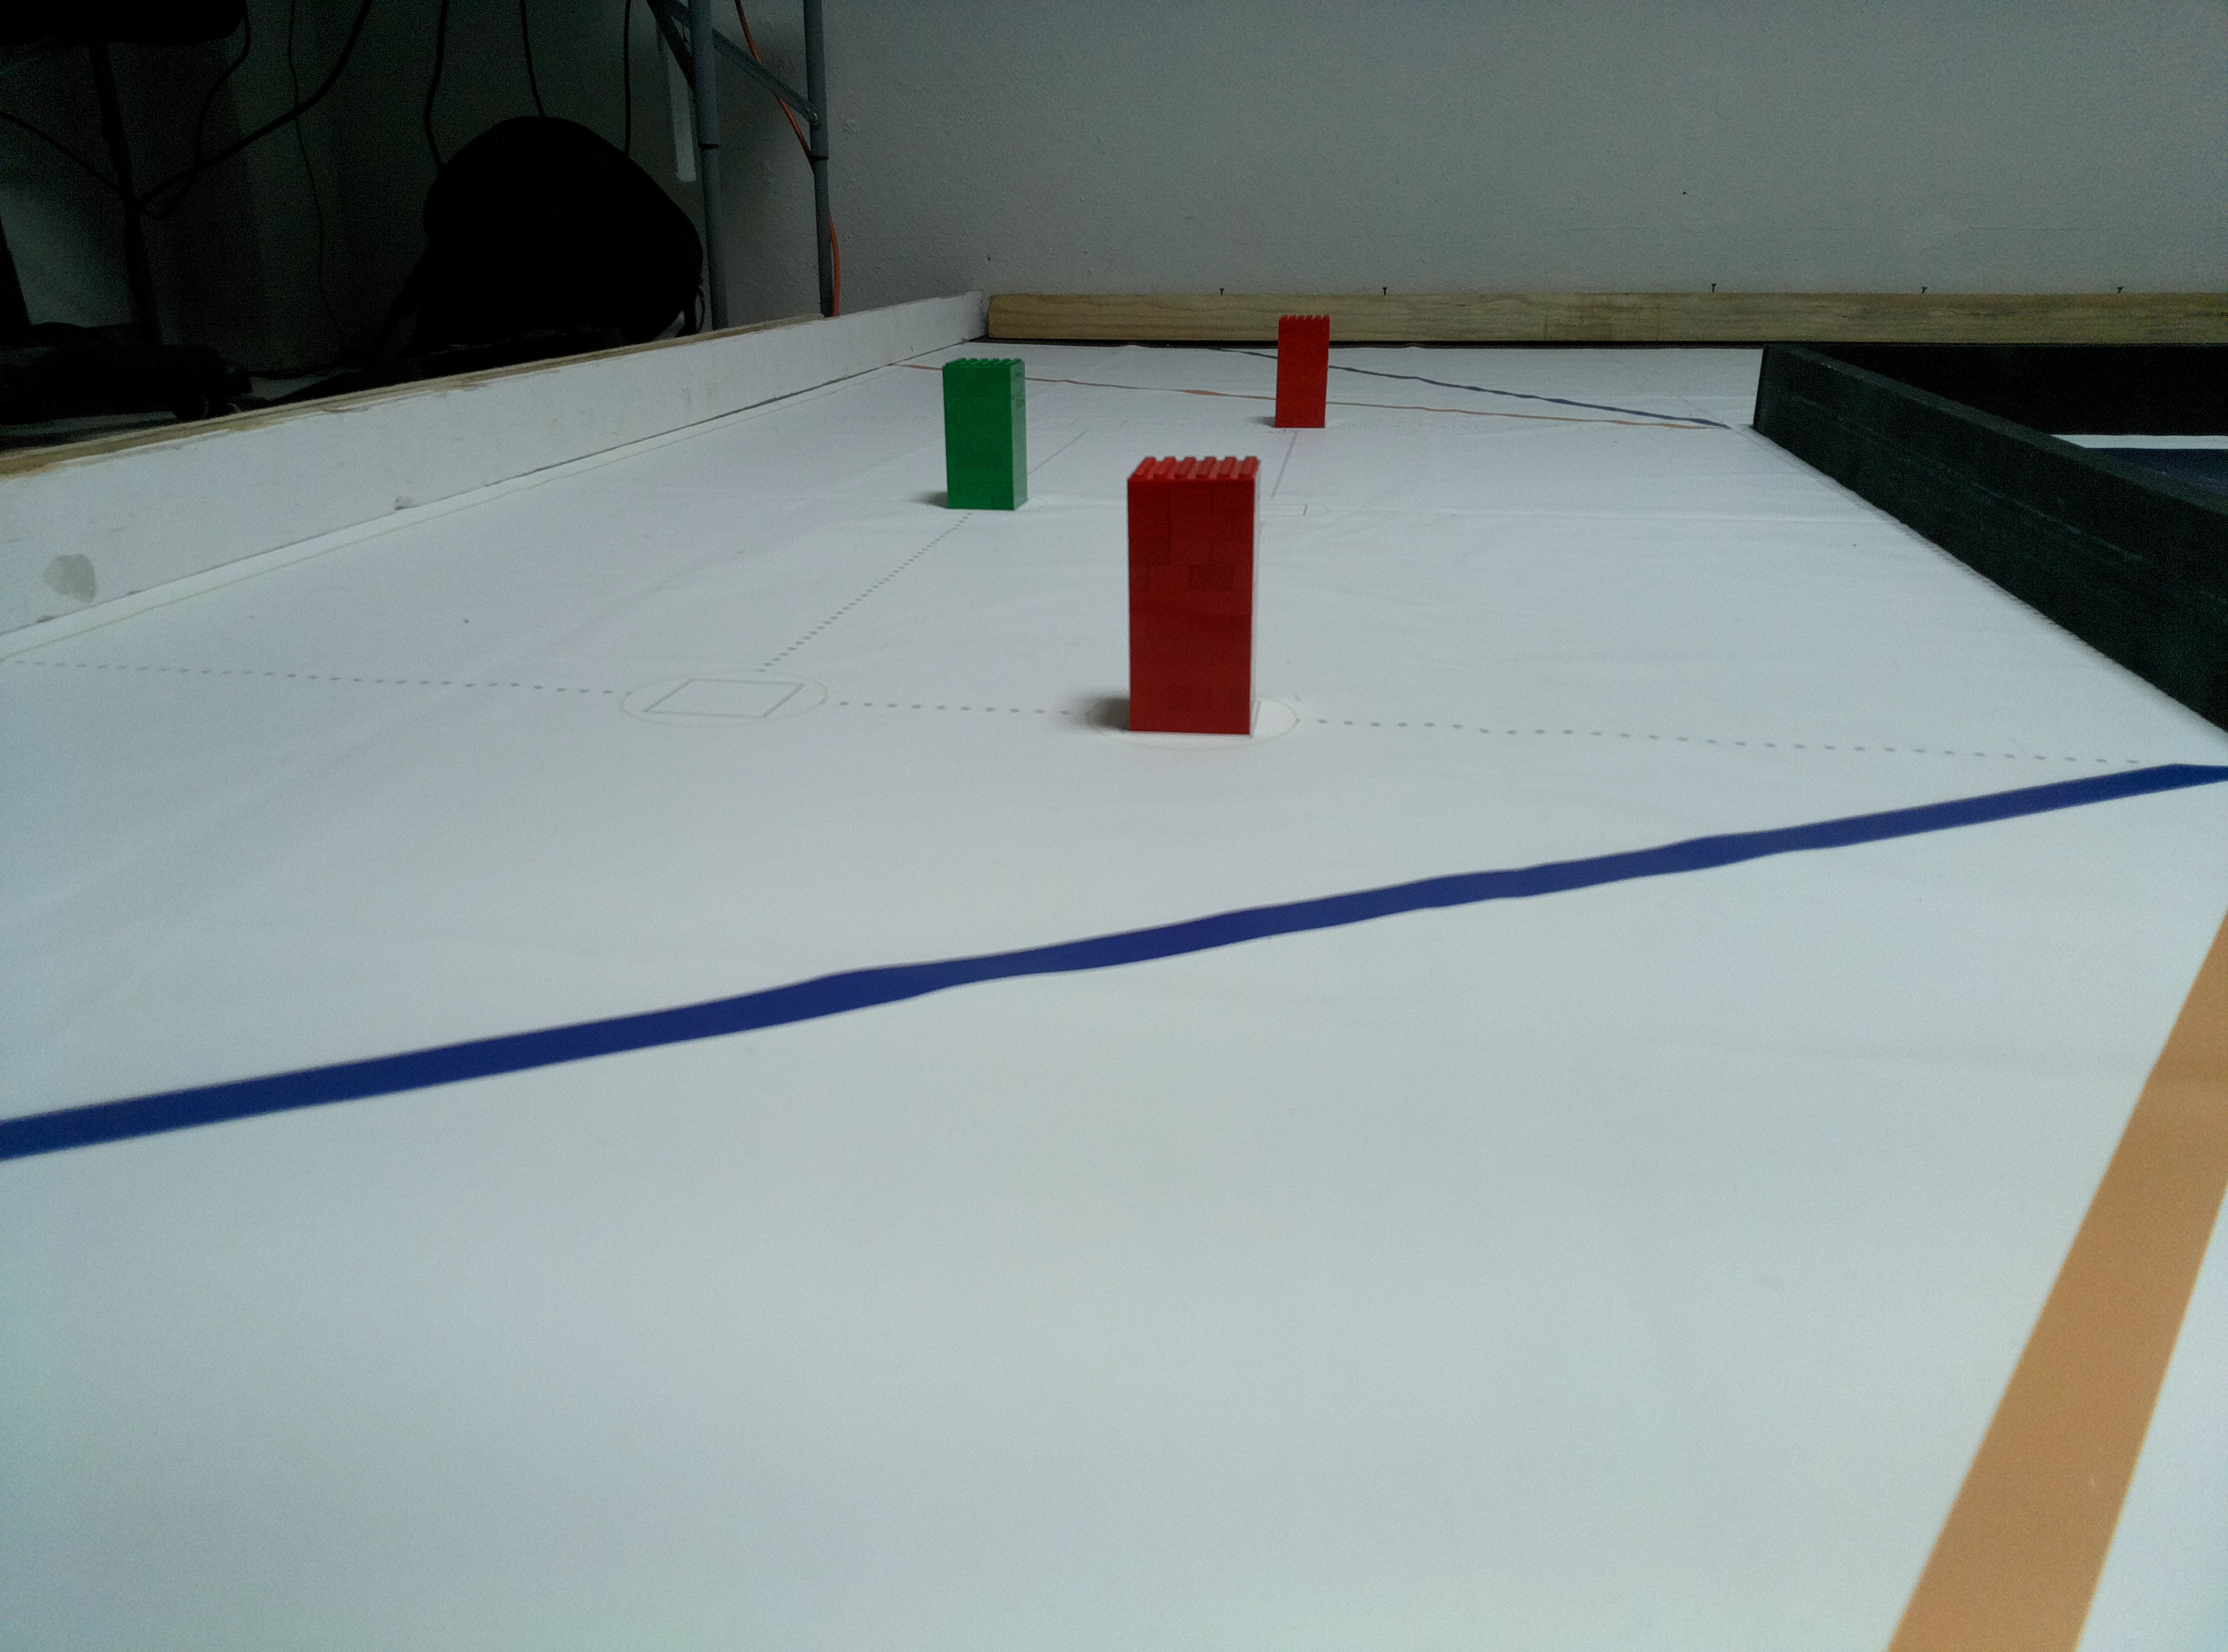greenbox: (939, 357, 1031, 512)
redbox: (1124, 451, 1263, 734), (1274, 314, 1333, 429)
